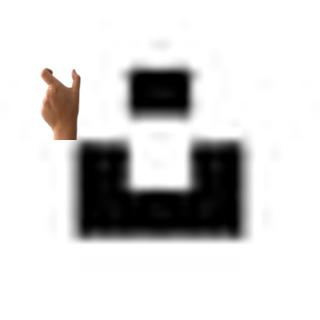Irritated: (34, 63, 81, 136)
